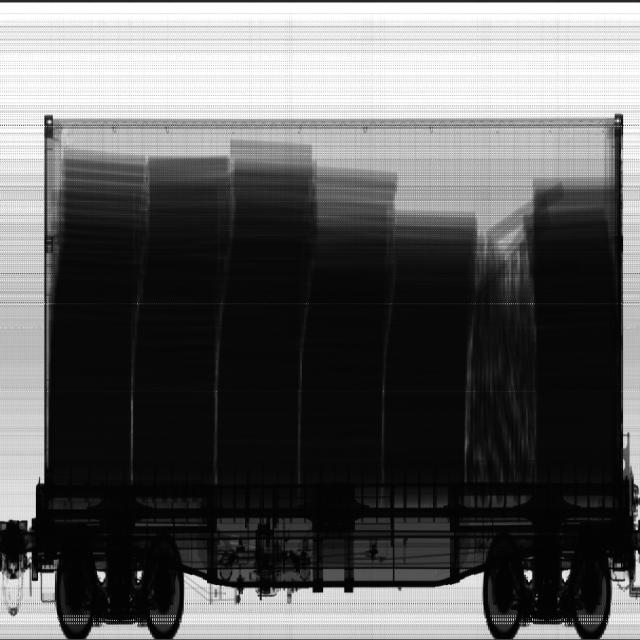fabrics: (63, 141, 640, 467)
